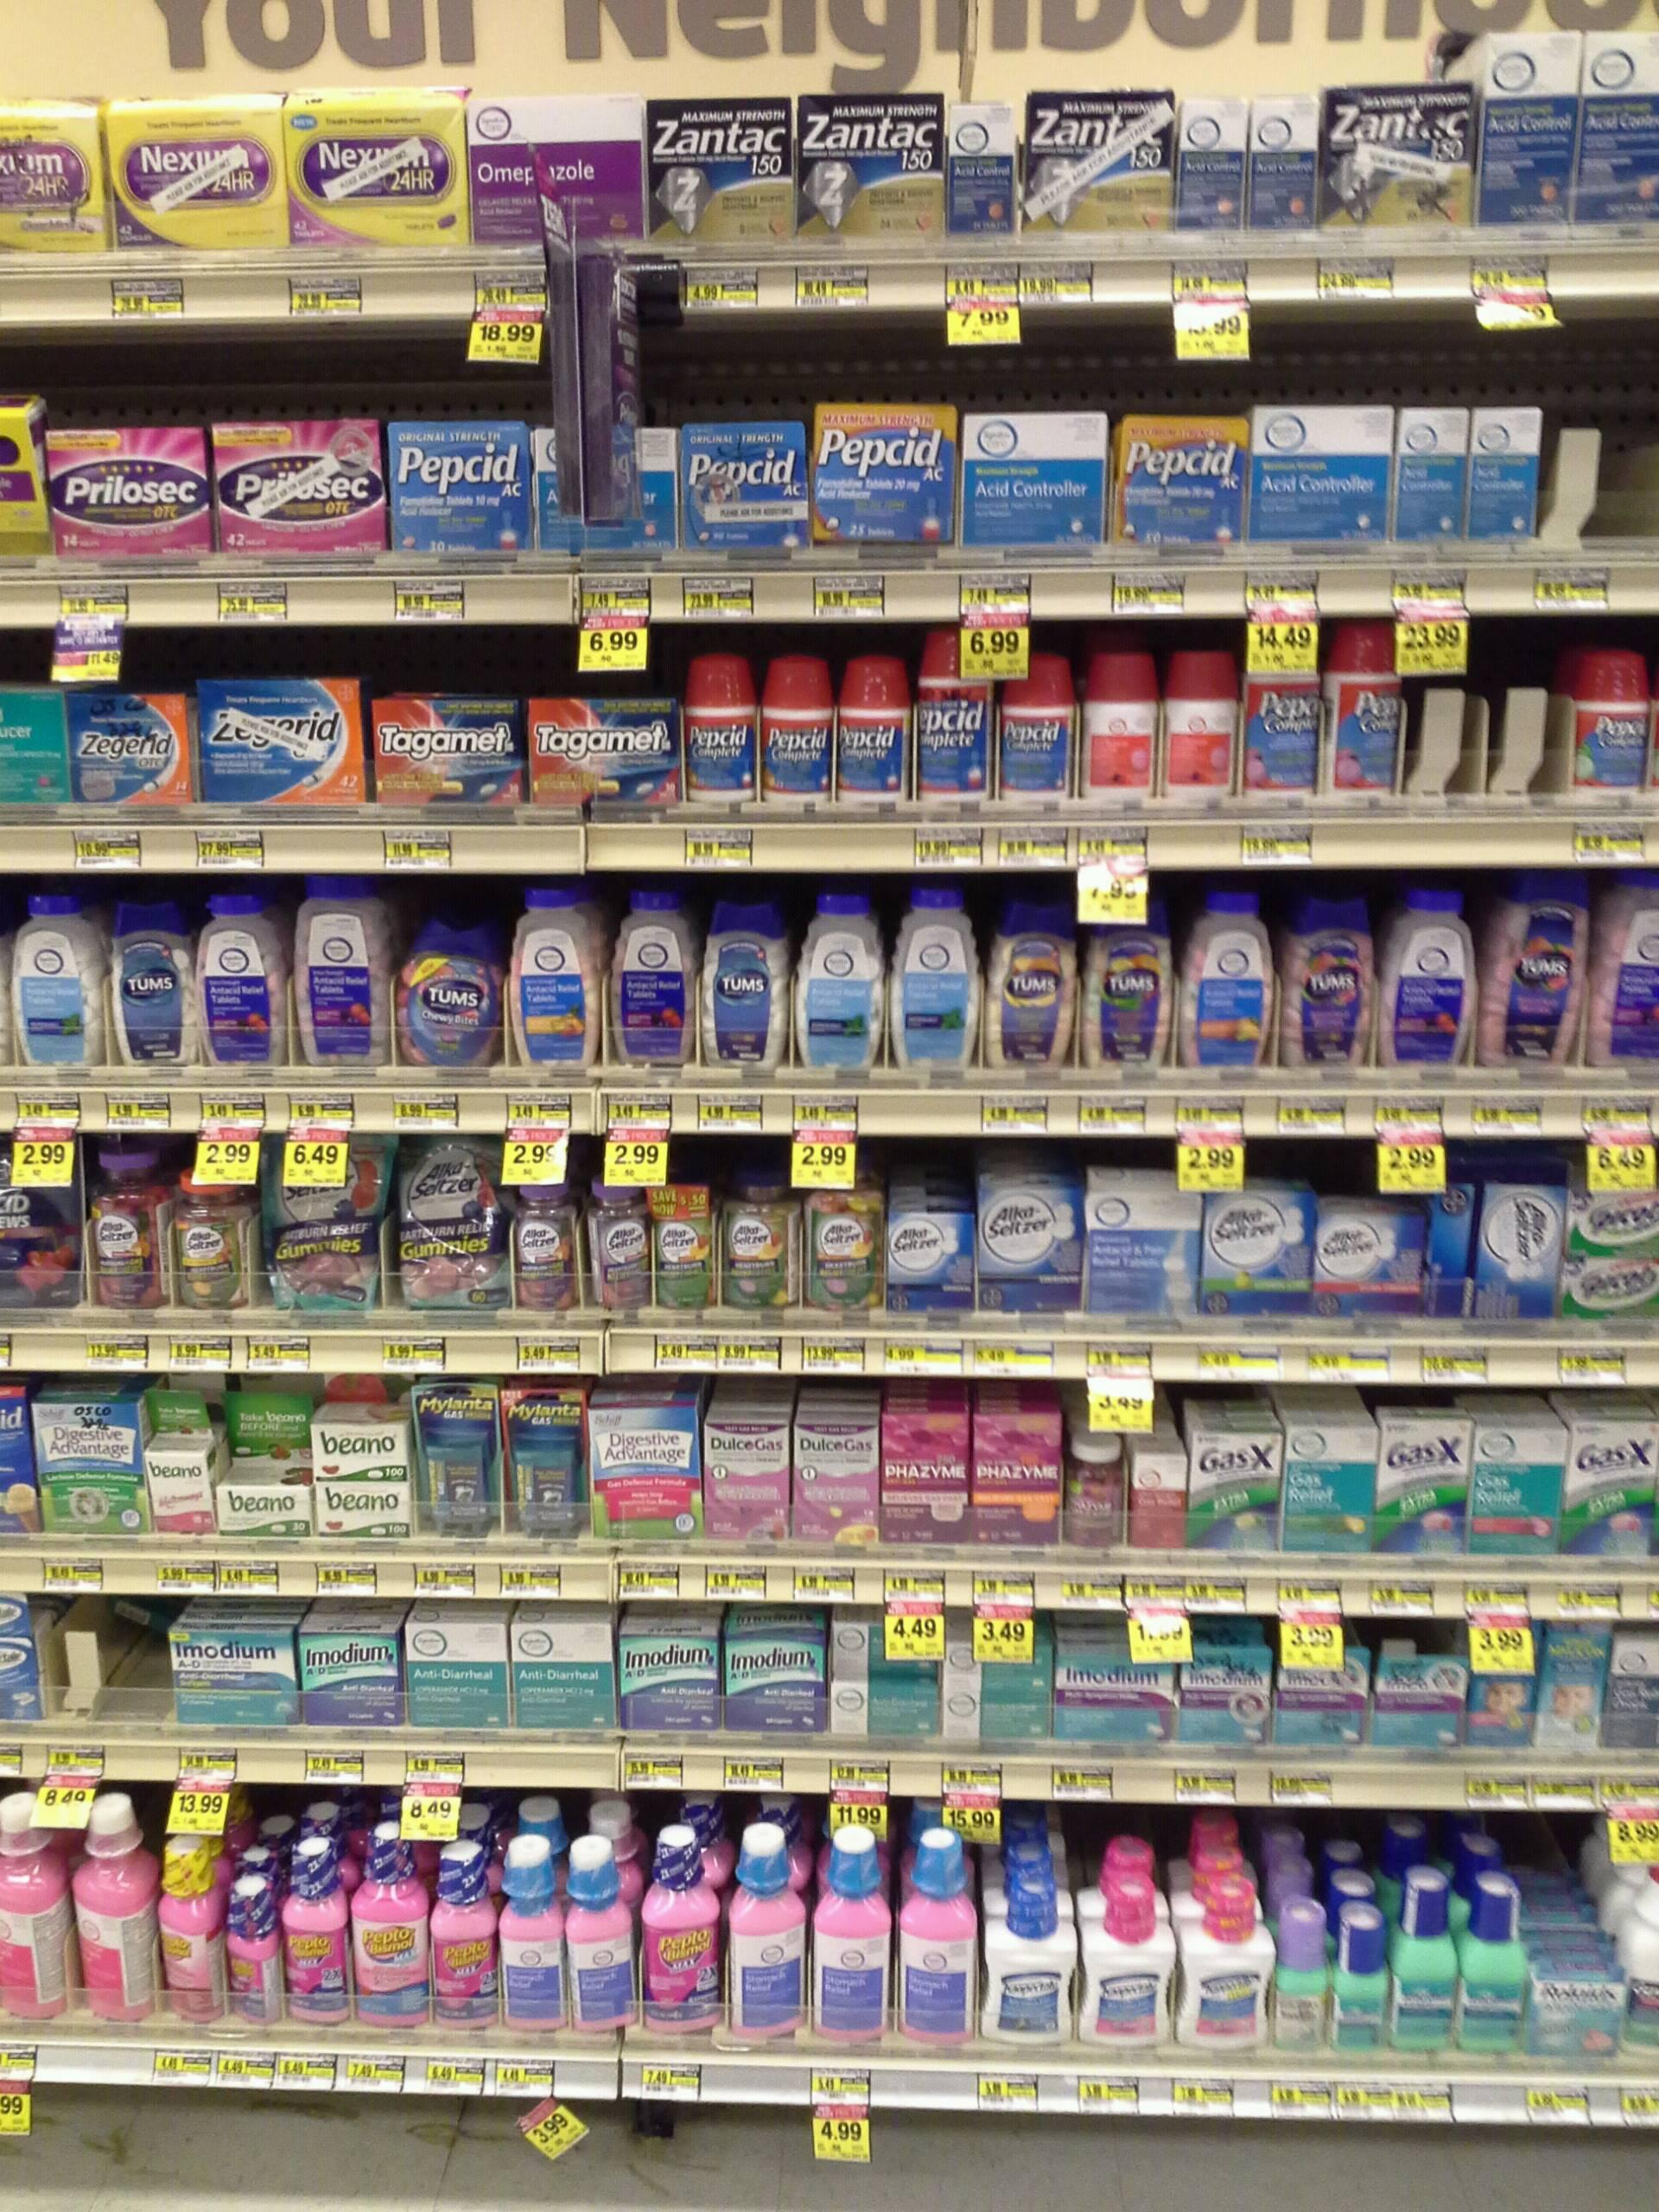empty: (68, 1611, 173, 1717), (1554, 442, 1659, 549)
